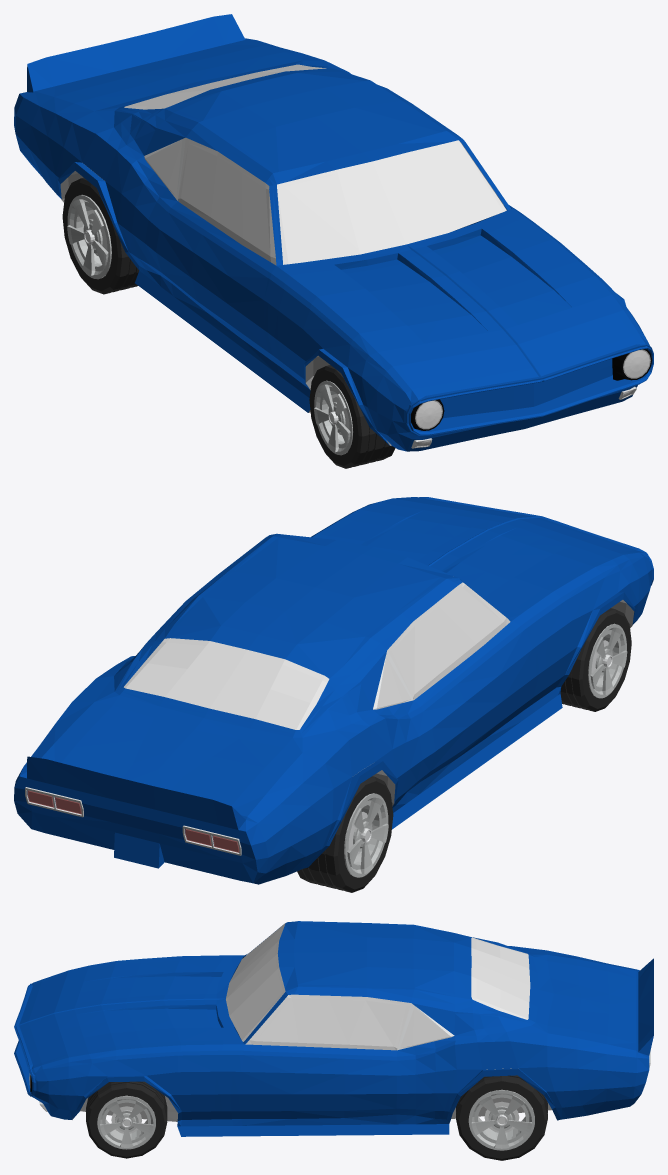
File: Chevrolet Camaro.fbx
The picture shows the model from 3 angles, top to bottom: view 1: azimuth 30°, elevation 25°; view 2: azimuth 150°, elevation 25°; view 3: azimuth 270°, elevation 25°; orthographic projection. The views are drawn at different scales.
Visible parts, largest first — view 1: CarBody, Window front, Window sides triangular, Wheel back right, Wheel front right, Window back, Lights front, Lights front protector; view 2: CarBody, Window back, Window sides triangular, Wheel back right, Wheel front right, Blinkers back; view 3: CarBody, Window sides triangular, Wheel back left, Wheel front left, Window front, Window back.
Boxes of the visible parts, bbox=[...] form: CarBody: bbox=[14, 14, 653, 451]; Window front: bbox=[277, 140, 506, 264]; Window sides triangular: bbox=[144, 137, 503, 265]; Wheel back right: bbox=[62, 177, 139, 294]; Wheel front right: bbox=[309, 365, 395, 468]; Window back: bbox=[124, 64, 326, 109]; Lights front: bbox=[416, 350, 649, 428]; Lights front protector: bbox=[411, 349, 652, 430]; CarBody: bbox=[14, 497, 653, 884]; Window back: bbox=[124, 638, 329, 729]; Window sides triangular: bbox=[373, 582, 510, 709]; Wheel back right: bbox=[297, 776, 393, 892]; Wheel front right: bbox=[560, 608, 631, 711]; Blinkers back: bbox=[25, 787, 241, 855]; CarBody: bbox=[14, 921, 653, 1136]; Window sides triangular: bbox=[245, 994, 454, 1050]; Wheel back left: bbox=[456, 1075, 547, 1160]; Wheel front left: bbox=[86, 1081, 167, 1158]; Window front: bbox=[226, 923, 285, 1041]; Window back: bbox=[471, 937, 530, 1019].
Bounding box in the file's own units: 392 × 268 × 985.
